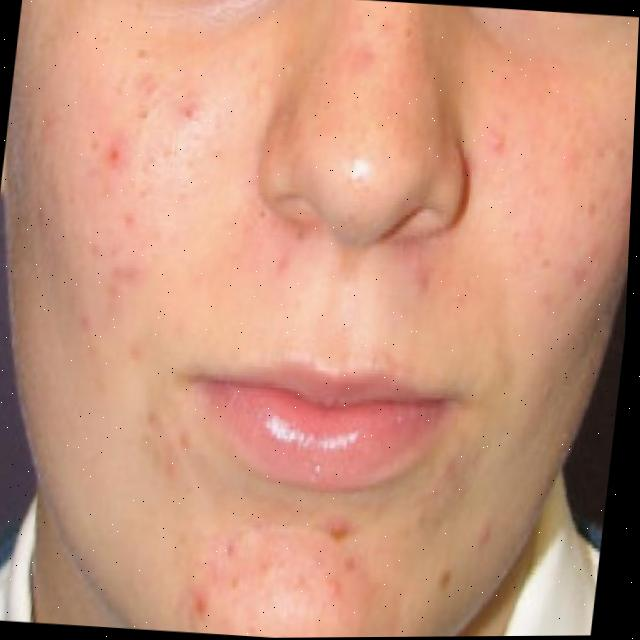Acne: (40, 51, 204, 392), (157, 487, 518, 639), (459, 75, 636, 280)
